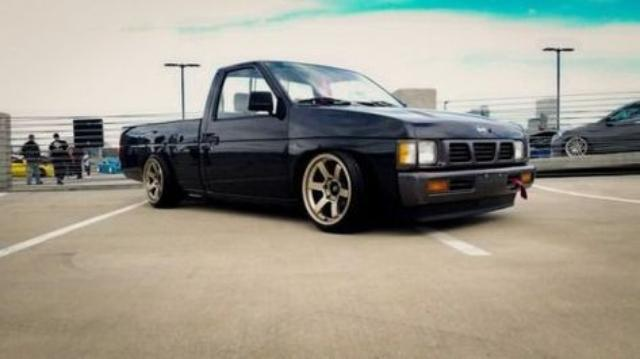pickup-truck: (118, 61, 536, 233)
